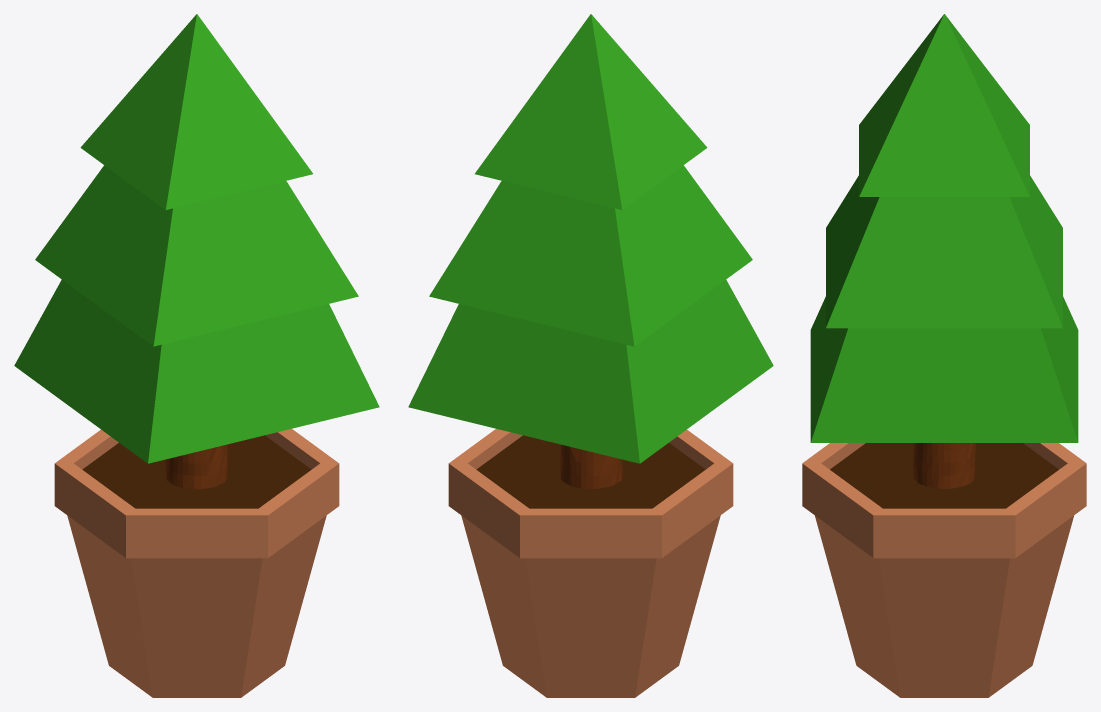
Rendered from plantSmall1.fbx.
The picture shows the model from 3 angles, left to right: view 1: azimuth 30°, elevation 25°; view 2: azimuth 150°, elevation 25°; view 3: azimuth 270°, elevation 25°; orthographic projection.
Visible parts, largest first — view 1: Cube, Cylinder, Cylinder.001; view 2: Cube, Cylinder, Cylinder.001; view 3: Cube, Cylinder, Cylinder.001.
Part boxes in pixels (bbox=[...]): Cube: bbox=[14, 14, 379, 463]; Cylinder: bbox=[54, 428, 339, 697]; Cylinder.001: bbox=[165, 444, 227, 489]; Cube: bbox=[408, 14, 773, 463]; Cylinder: bbox=[448, 428, 733, 697]; Cylinder.001: bbox=[560, 444, 622, 489]; Cube: bbox=[810, 14, 1078, 442]; Cylinder: bbox=[802, 443, 1086, 697]; Cylinder.001: bbox=[913, 443, 975, 488].
Size of the model in its own units: 304 by 816 by 323.
